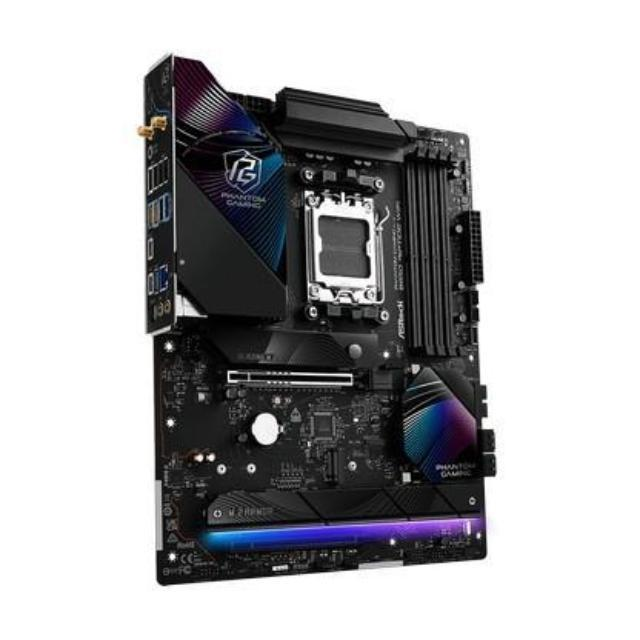Mainboard: (133, 53, 504, 582)
